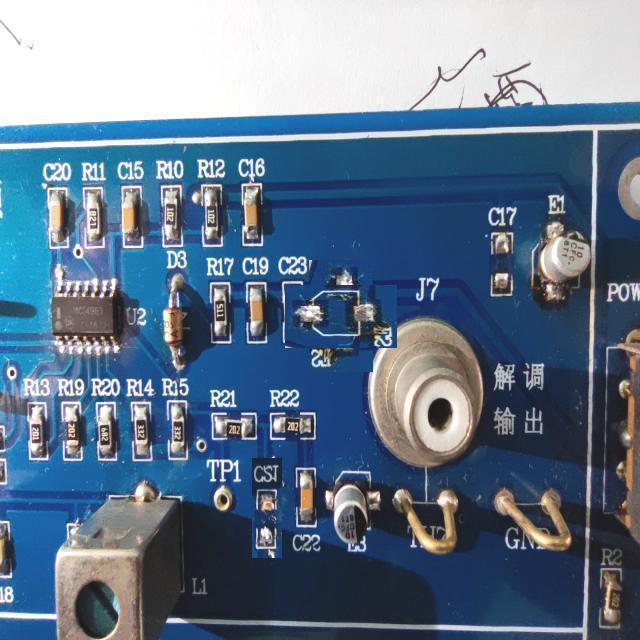miss_welding: (297, 272, 385, 360), (482, 199, 523, 302), (252, 458, 282, 558)
